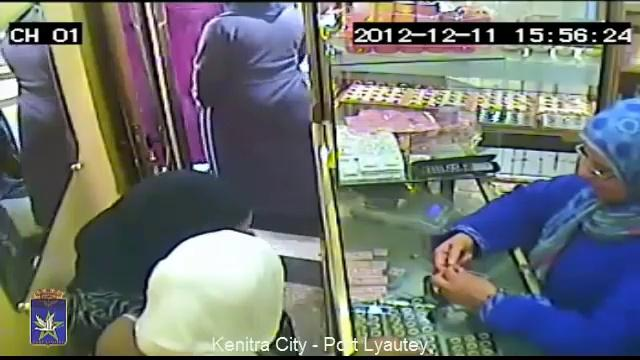Product: (438, 243, 464, 274)
Product-Picked: (382, 81, 640, 353)
Regular: (105, 205, 323, 360), (178, 0, 317, 156), (124, 148, 229, 248)
